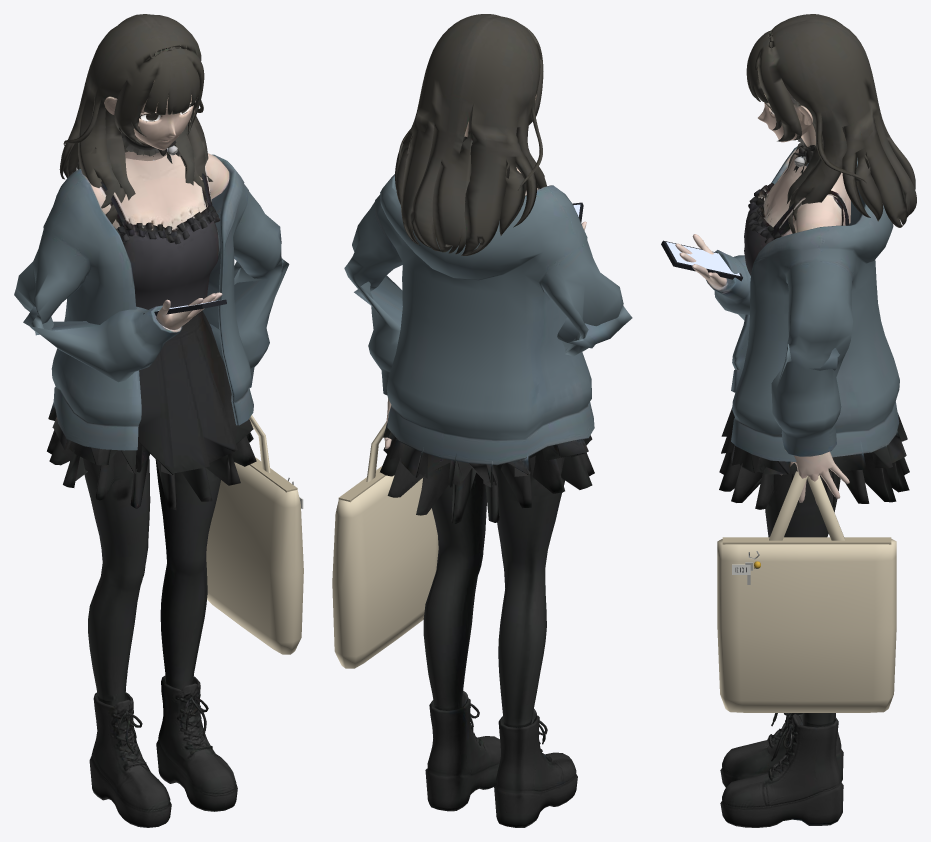
File: npc_nao.glb
3 views of the same model, side by side, from view 1: azimuth 30°, elevation 25°; view 2: azimuth 150°, elevation 25°; view 3: azimuth 270°, elevation 25° (orthographic). The views are drawn at different scales.
Visible parts, largest first — view 1: body, face; view 2: body, face; view 3: body, face.
Part boxes in pixels (x1=…): body: x1=14, y1=151, x2=303, y2=827; face: x1=59, y1=14, x2=212, y2=223; body: x1=332, y1=167, x2=632, y2=827; face: x1=395, y1=14, x2=546, y2=255; body: x1=661, y1=146, x2=909, y2=827; face: x1=746, y1=14, x2=916, y2=233.
Bounding box in the file's own units: 0.5627 × 1.59 × 0.4707.
10 materials, 2 textured.
